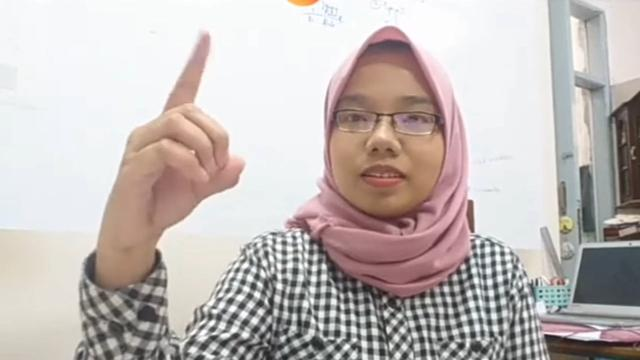D: (97, 30, 247, 266)
